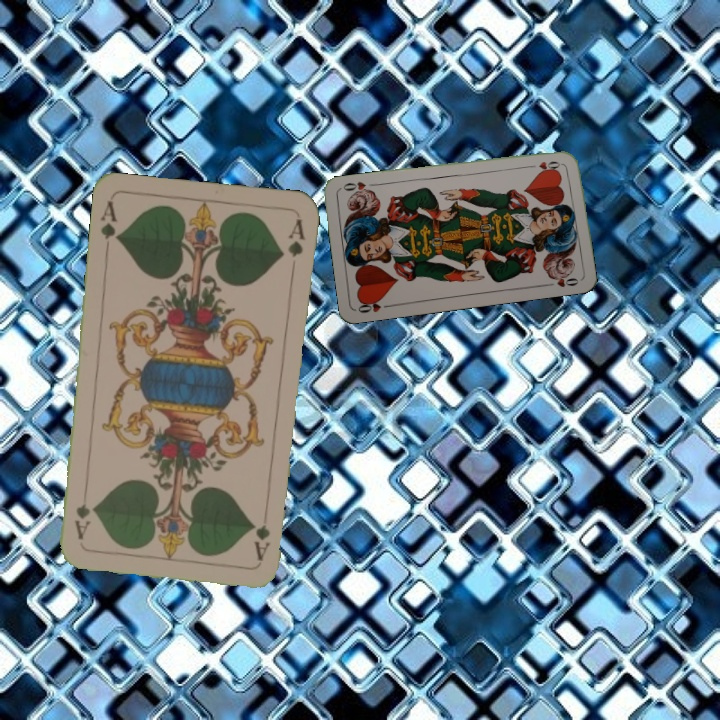GA: (97, 197, 123, 244), (251, 520, 273, 563)
HO: (354, 295, 394, 316), (525, 157, 565, 172)
